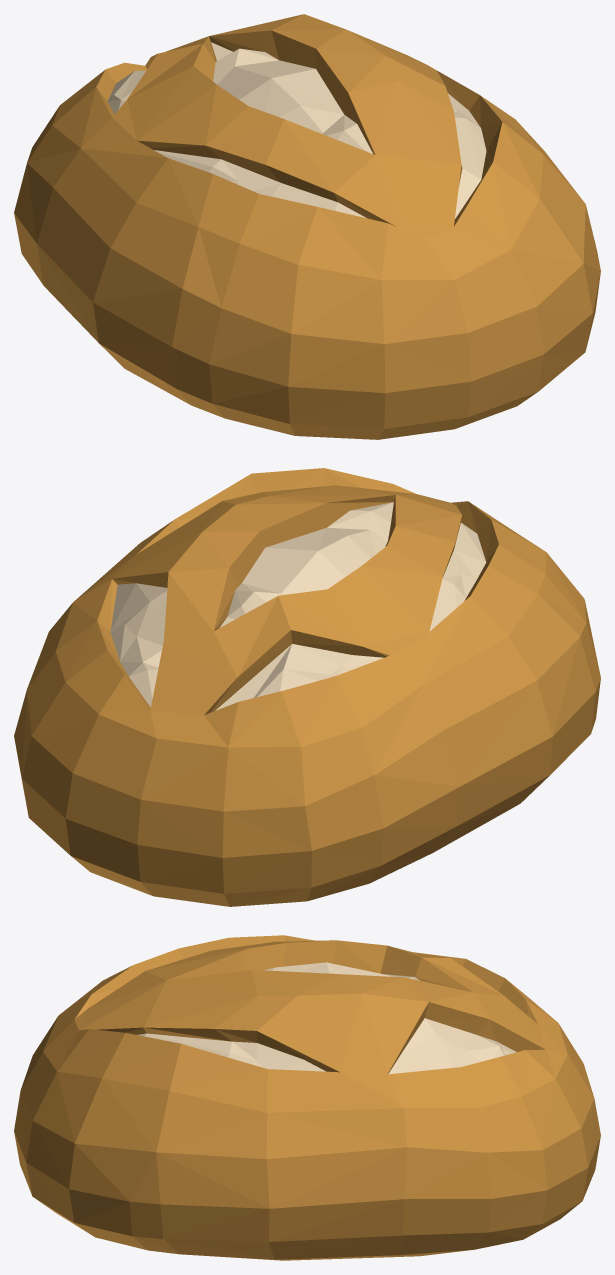
Rendered from BreadLoaf.fbx.
The picture shows the model from 3 angles, top to bottom: view 1: azimuth 30°, elevation 25°; view 2: azimuth 150°, elevation 25°; view 3: azimuth 270°, elevation 25°; orthographic projection. The views are drawn at different scales.
Visible parts, largest first — view 1: BreadLoaf; view 2: BreadLoaf; view 3: BreadLoaf.
Boxes of the visible parts, box(x1,y1,x2,y2) form: BreadLoaf: box(14, 14, 600, 439); BreadLoaf: box(14, 468, 600, 906); BreadLoaf: box(14, 935, 600, 1260).
Size of the model in its own units: 0.1998 by 0.25 by 0.1198.
